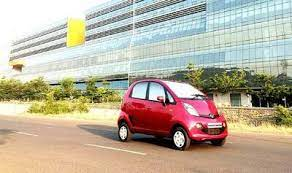Nano: (116, 80, 228, 150)
